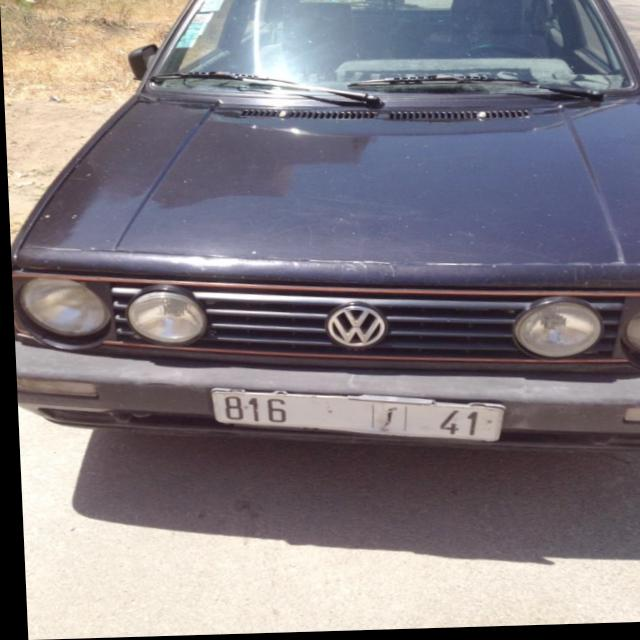License-Plate: (207, 390, 500, 444)
